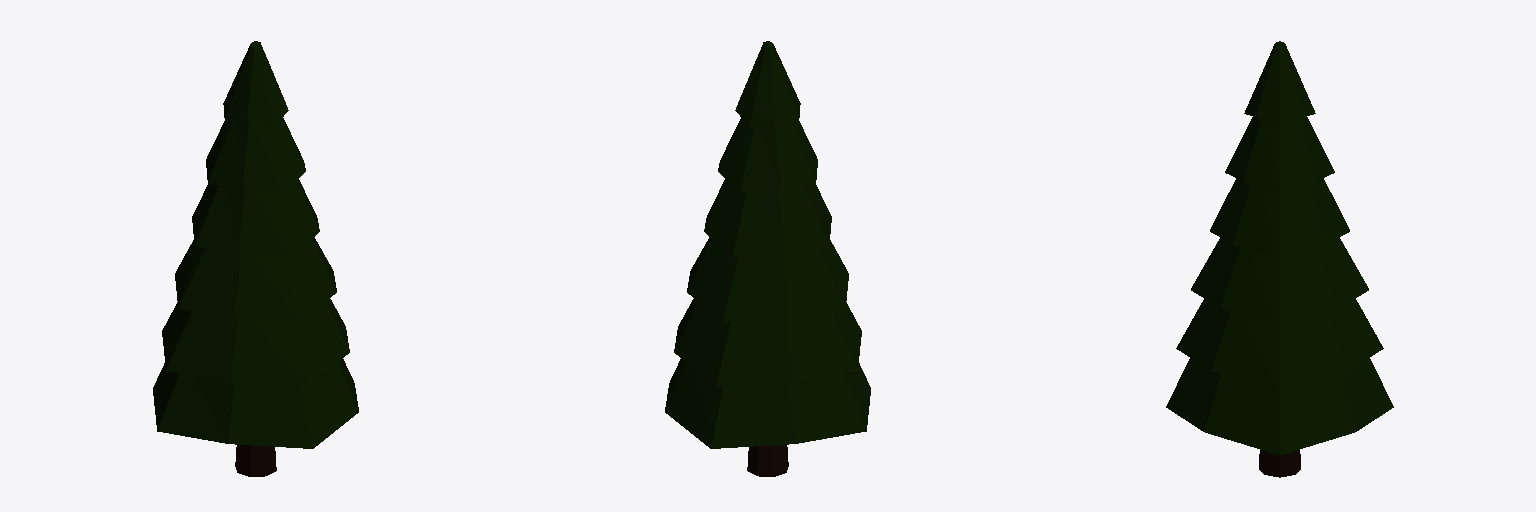
The model's file is Tree1.obj.
3 views of the same model, side by side, from view 1: azimuth 30°, elevation 25°; view 2: azimuth 150°, elevation 25°; view 3: azimuth 270°, elevation 25° (orthographic).
Visible parts, largest first — view 1: Tree1_Cylinder.008; view 2: Tree1_Cylinder.008; view 3: Tree1_Cylinder.008.
Part boxes in pixels (left/top/right/bottom): Tree1_Cylinder.008: left=153, top=41, right=358, bottom=476; Tree1_Cylinder.008: left=665, top=41, right=870, bottom=476; Tree1_Cylinder.008: left=1166, top=41, right=1393, bottom=477.
Size of the model in its own units: 1.35 by 2.77 by 1.35.